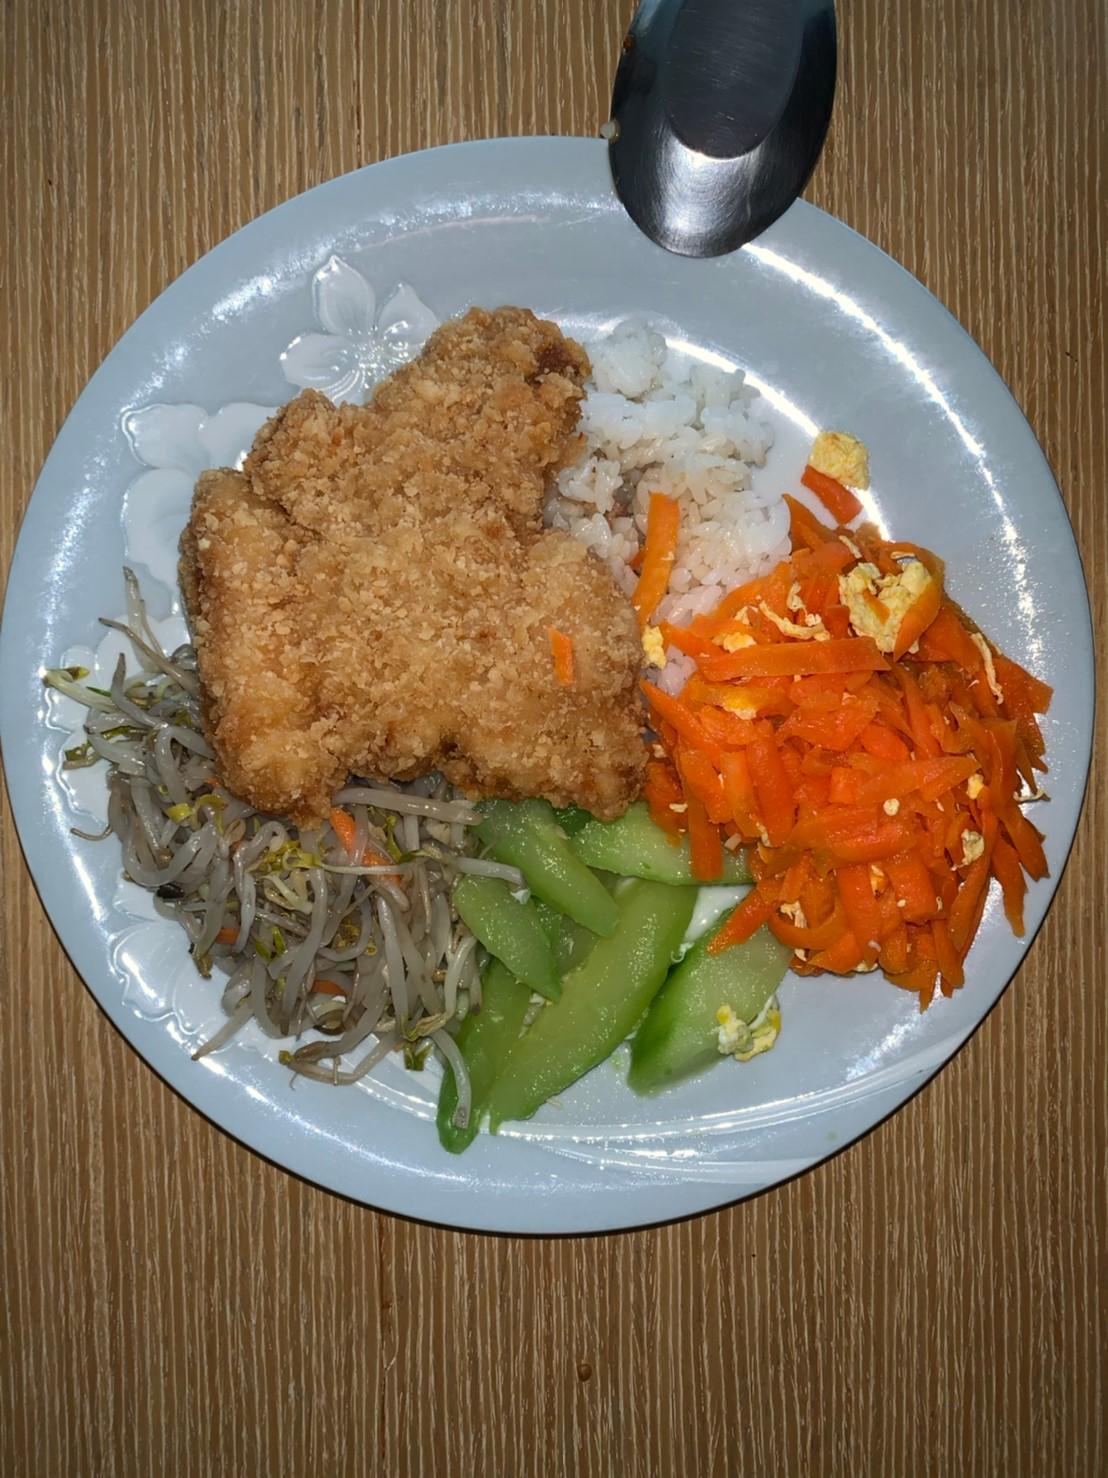carrot_eggs: (638, 477, 1065, 990)
fried_chicken: (184, 301, 667, 816)
mung_bean_sprouts: (99, 647, 510, 1090)
rice: (554, 322, 797, 638)
